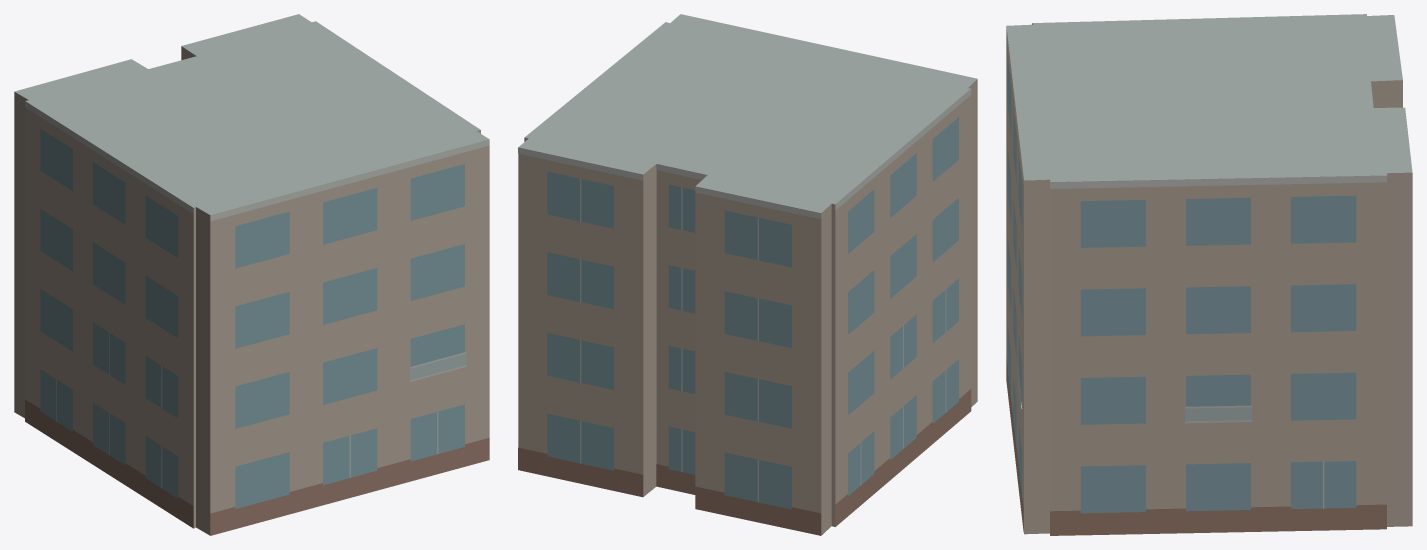
The model's file is survey-upis-32804628.glb.
3 renders of one model, left to right at view 1: azimuth 30°, elevation 25°; view 2: azimuth 150°, elevation 25°; view 3: azimuth 270°, elevation 25°, orthographic. The views are drawn at different scales.
Visible parts, largest first — view 1: survey-upis-32804628.tmp; view 2: survey-upis-32804628.tmp; view 3: survey-upis-32804628.tmp.
Boxes of the visible parts, x1,y1,x2,y2 form: survey-upis-32804628.tmp: (14, 14, 489, 535); survey-upis-32804628.tmp: (518, 14, 977, 535); survey-upis-32804628.tmp: (1006, 14, 1412, 535).
Size of the model in its own units: 12.95 by 12.7 by 13.22.
